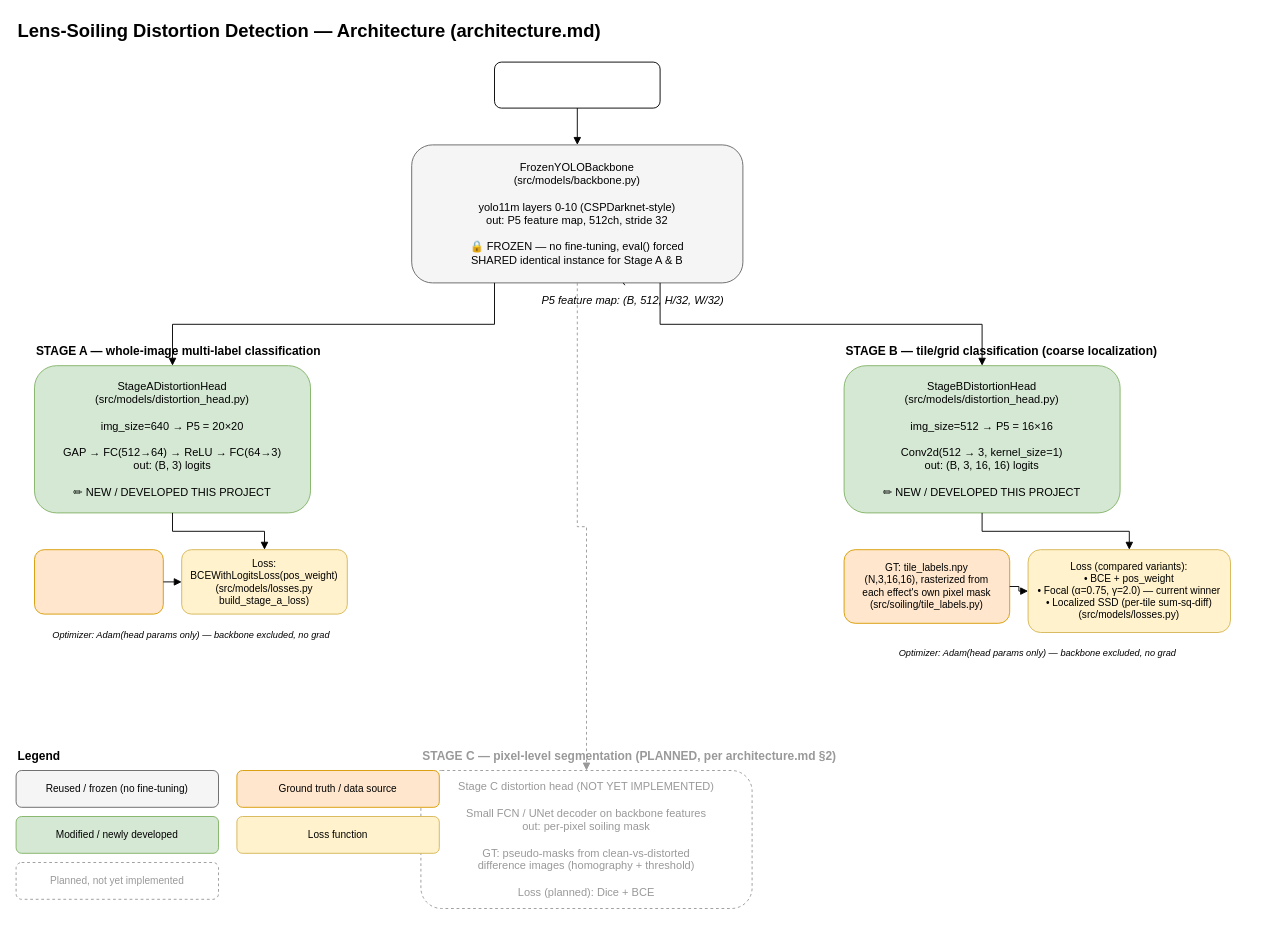
This 1274x925 diagram has some shape labels left out. The shapes that lost their labels are listed below. From the top down, each one's box as (x1, y1, x2, y2) in pixels, then its label:
(494, 61, 660, 108): Input RGB image
(34, 549, 163, 614): GT: image-level labels (dirt/water/scratch, 0/1) from metadata.csv
